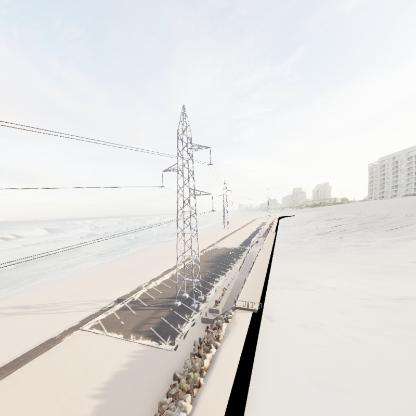tower: (159, 105, 216, 310)
